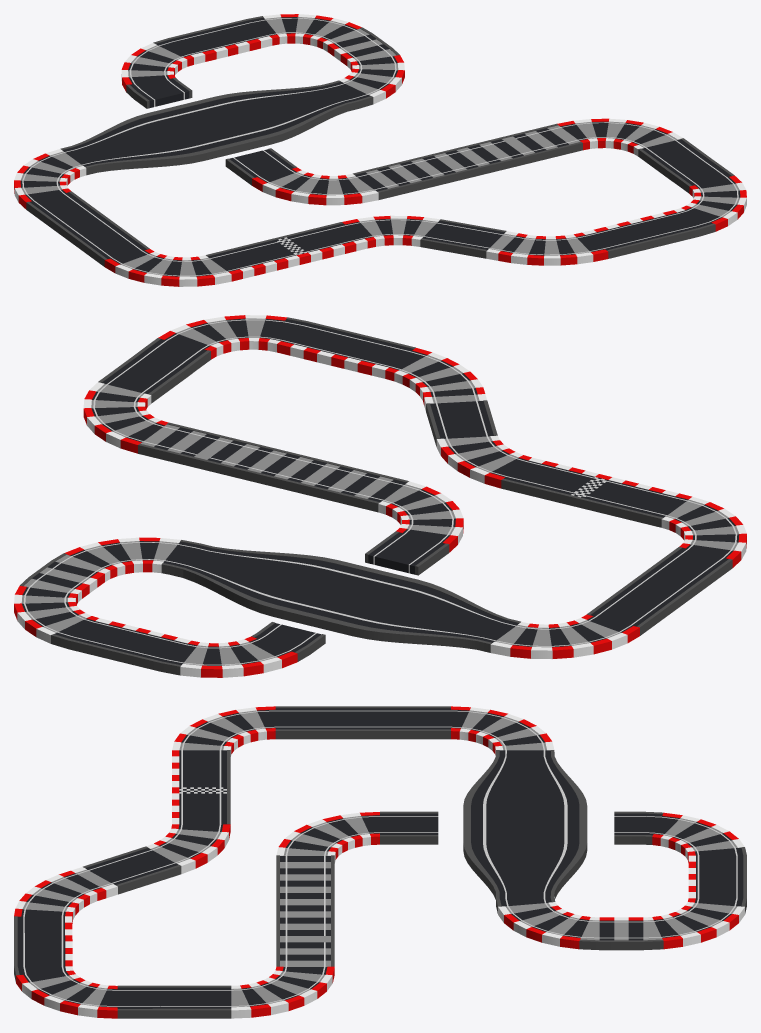
Rendered from CircuitVroomVroom 1.FBX.
3 renders of one model, top to bottom at view 1: azimuth 30°, elevation 25°; view 2: azimuth 150°, elevation 25°; view 3: azimuth 270°, elevation 25°, orthographic. The views are drawn at different scales.
Visible parts, largest first — view 1: Object015; view 2: Object015; view 3: Object015.
Boxes of the visible parts, x1=… form: Object015: x1=14, y1=14, x2=746, y2=286; Object015: x1=14, y1=315, x2=746, y2=677; Object015: x1=14, y1=706, x2=746, y2=1018.
Size of the model in its own units: 4930 by 62.83 by 5021.
